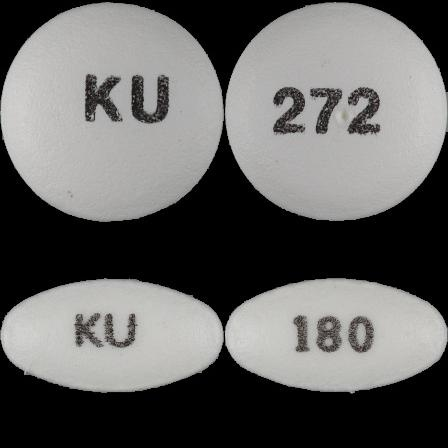50268-629: (0, 0, 224, 224)
